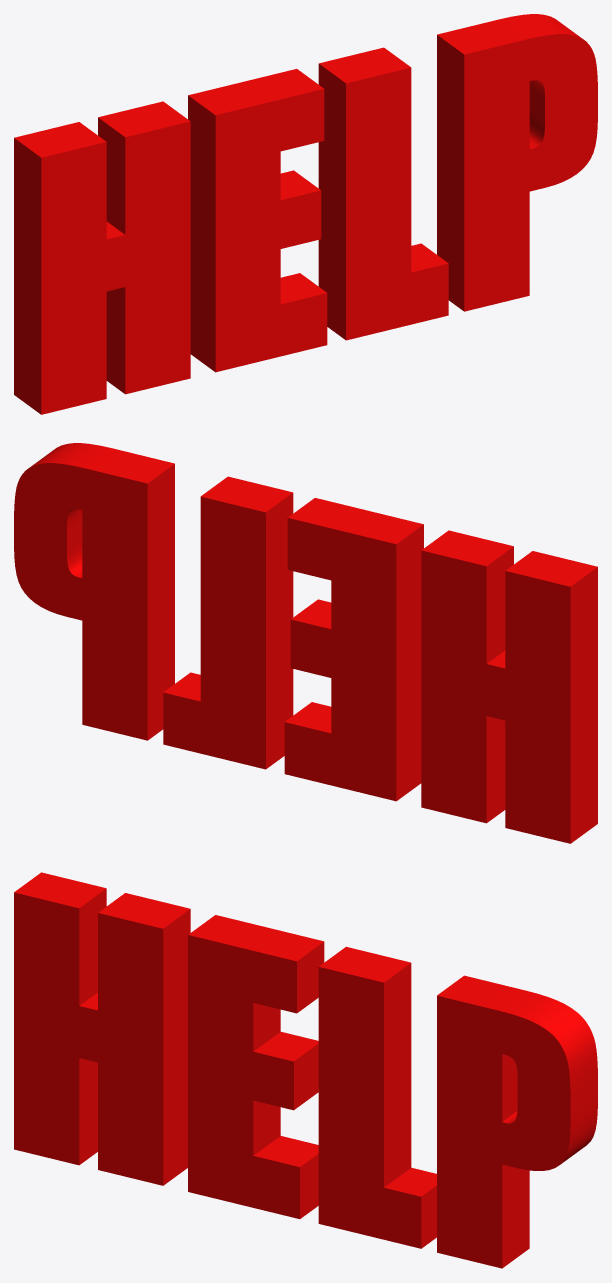
Rendered from sign_help.fbx.
3 renders of one model, top to bottom at view 1: azimuth 30°, elevation 25°; view 2: azimuth 150°, elevation 25°; view 3: azimuth 330°, elevation 25°, orthographic.
Parts seen in each view (by area): view 1: typeMesh1; view 2: typeMesh1; view 3: typeMesh1.
Part boxes in pixels (x1=…): typeMesh1: x1=14, y1=14, x2=597, y2=414; typeMesh1: x1=14, y1=443, x2=597, y2=843; typeMesh1: x1=14, y1=872, x2=597, y2=1268.
Size of the model in its own units: 29.34 by 12.95 by 2.5.
